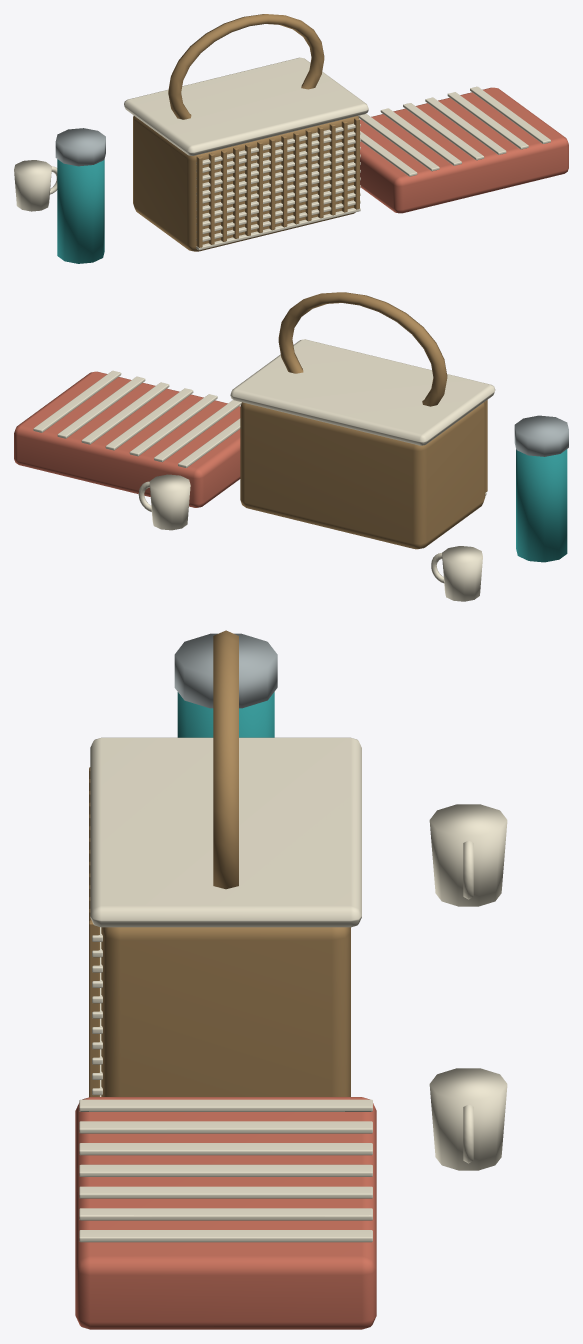
The model's file is pacific-picnic.glb.
The picture shows the model from 3 angles, top to bottom: view 1: azimuth 30°, elevation 25°; view 2: azimuth 150°, elevation 25°; view 3: azimuth 270°, elevation 25°; orthographic projection. The views are drawn at different scales.
Visible parts, largest first — view 1: LifeRoot_Picnic cream trim, LifeRoot_Picnic woven wicker, LifeRoot_Picnic coral blanket, LifeRoot_Picnic thermos enamel, LifeRoot_Picnic steel; view 2: LifeRoot_Picnic woven wicker, LifeRoot_Picnic cream trim, LifeRoot_Picnic coral blanket, LifeRoot_Picnic thermos enamel, LifeRoot_Picnic steel; view 3: LifeRoot_Picnic cream trim, LifeRoot_Picnic woven wicker, LifeRoot_Picnic coral blanket, LifeRoot_Picnic steel, LifeRoot_Picnic thermos enamel.
Boxes of the visible parts, x1=… form: LifeRoot_Picnic cream trim: x1=14, y1=57, x2=550, y2=250; LifeRoot_Picnic woven wicker: x1=133, y1=14, x2=359, y2=251; LifeRoot_Picnic coral blanket: x1=360, y1=87, x2=568, y2=213; LifeRoot_Picnic thermos enamel: x1=57, y1=159, x2=104, y2=263; LifeRoot_Picnic steel: x1=55, y1=128, x2=105, y2=166; LifeRoot_Picnic woven wicker: x1=240, y1=292, x2=487, y2=549; LifeRoot_Picnic cream trim: x1=33, y1=339, x2=495, y2=601; LifeRoot_Picnic coral blanket: x1=14, y1=371, x2=240, y2=507; LifeRoot_Picnic thermos enamel: x1=516, y1=449, x2=567, y2=562; LifeRoot_Picnic steel: x1=514, y1=415, x2=568, y2=456; LifeRoot_Picnic cream trim: x1=79, y1=737, x2=507, y2=1242; LifeRoot_Picnic woven wicker: x1=89, y1=630, x2=350, y2=1097; LifeRoot_Picnic coral blanket: x1=75, y1=1097, x2=376, y2=1329; LifeRoot_Picnic steel: x1=174, y1=633, x2=277, y2=708; LifeRoot_Picnic thermos enamel: x1=177, y1=692, x2=274, y2=737.
Size of the model in its own units: 1.49 by 0.603 by 0.588.
